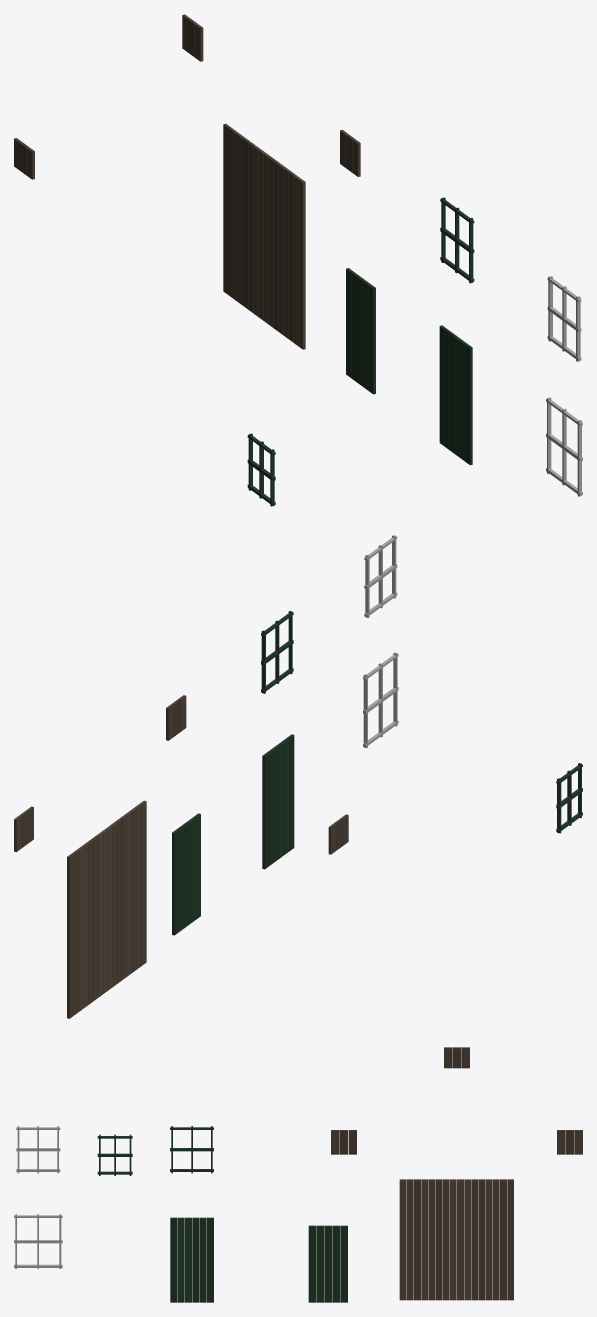
The model's file is SM_Bld_104_Wood.glb.
3 renders of one model, top to bottom at view 1: azimuth 30°, elevation 25°; view 2: azimuth 150°, elevation 25°; view 3: azimuth 270°, elevation 25°, orthographic. The views are drawn at different scales.
Visible parts, largest first — view 1: SM_Bld_104_Wood; view 2: SM_Bld_104_Wood; view 3: SM_Bld_104_Wood.
Boxes of the visible parts, bbox=[...] form: SM_Bld_104_Wood: bbox=[14, 14, 582, 506]; SM_Bld_104_Wood: bbox=[14, 535, 582, 1018]; SM_Bld_104_Wood: bbox=[14, 1047, 582, 1302].
Bounding box in the file's own units: 4.74 × 4.4 × 12.9.
